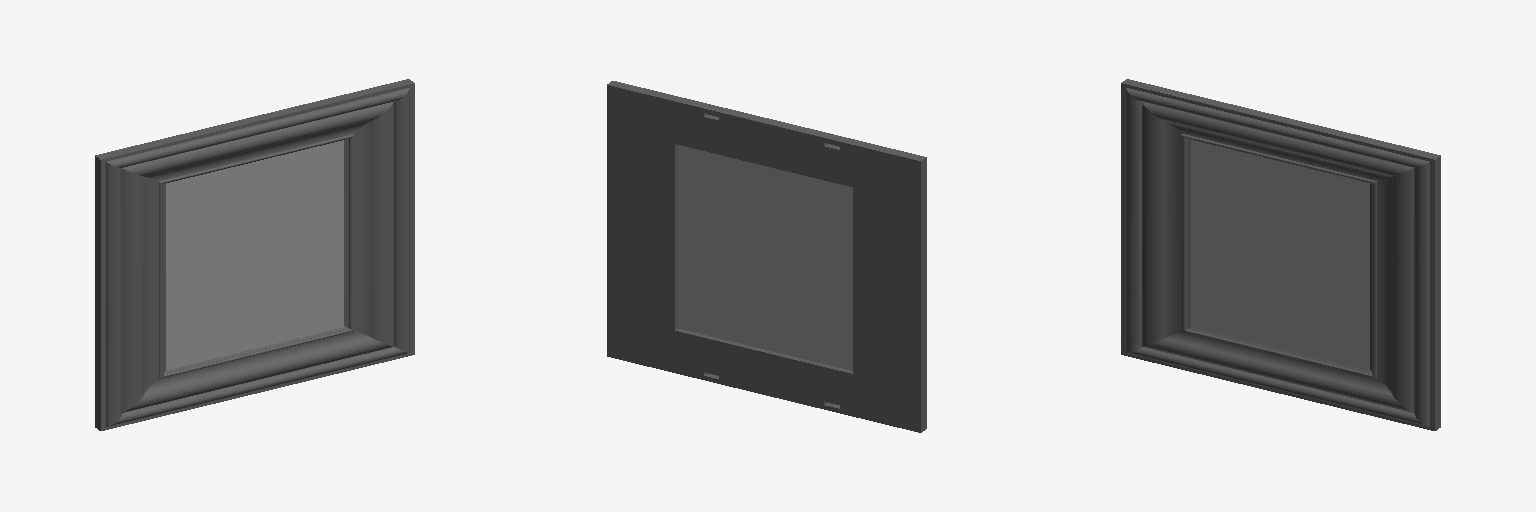
The model's file is Frame-1.obj.
3 renders of one model, left to right at view 1: azimuth 30°, elevation 25°; view 2: azimuth 150°, elevation 25°; view 3: azimuth 330°, elevation 25°, orthographic.
Parts seen in each view (by area): view 1: nFrame_Object.1; view 2: nFrame_Object.1; view 3: nFrame_Object.1.
Boxes of the visible parts, x1,y1,x2,y2 form: nFrame_Object.1: [95, 79, 414, 430]; nFrame_Object.1: [607, 81, 926, 432]; nFrame_Object.1: [1121, 79, 1440, 430].
Bounding box in the file's own units: 3.02 × 2.5 × 0.1376.